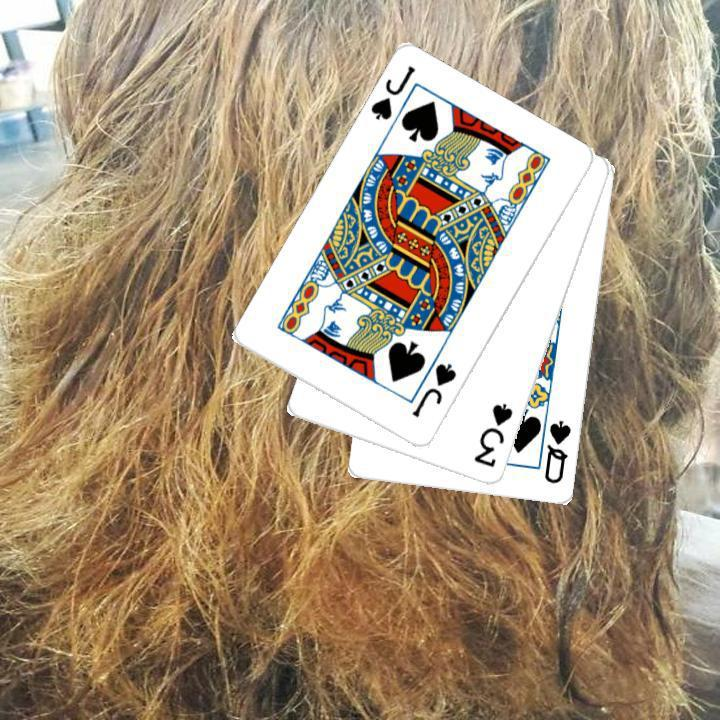3: (470, 399, 515, 470)
J: (366, 61, 418, 123), (408, 359, 459, 420)
Q: (540, 416, 574, 486)
